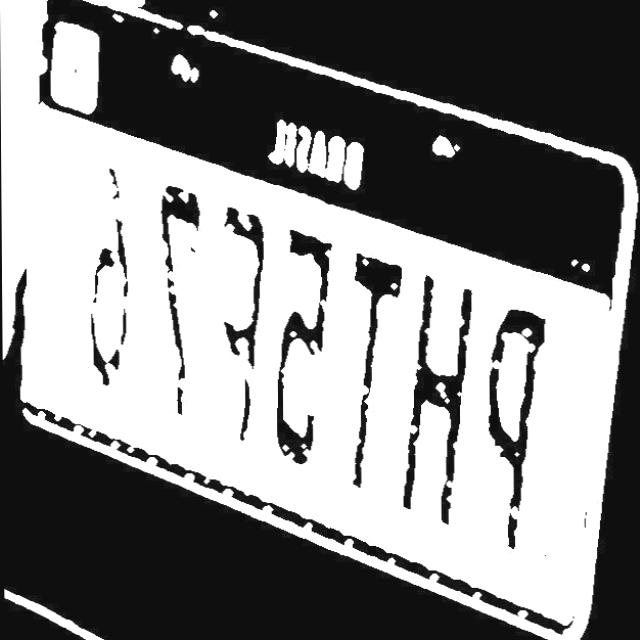5: (270, 234, 342, 470)
6: (74, 162, 140, 394)
7: (143, 178, 206, 415)
f: (200, 197, 268, 448)
h: (391, 273, 479, 524)
p: (474, 304, 547, 554)
t: (330, 248, 407, 503)
